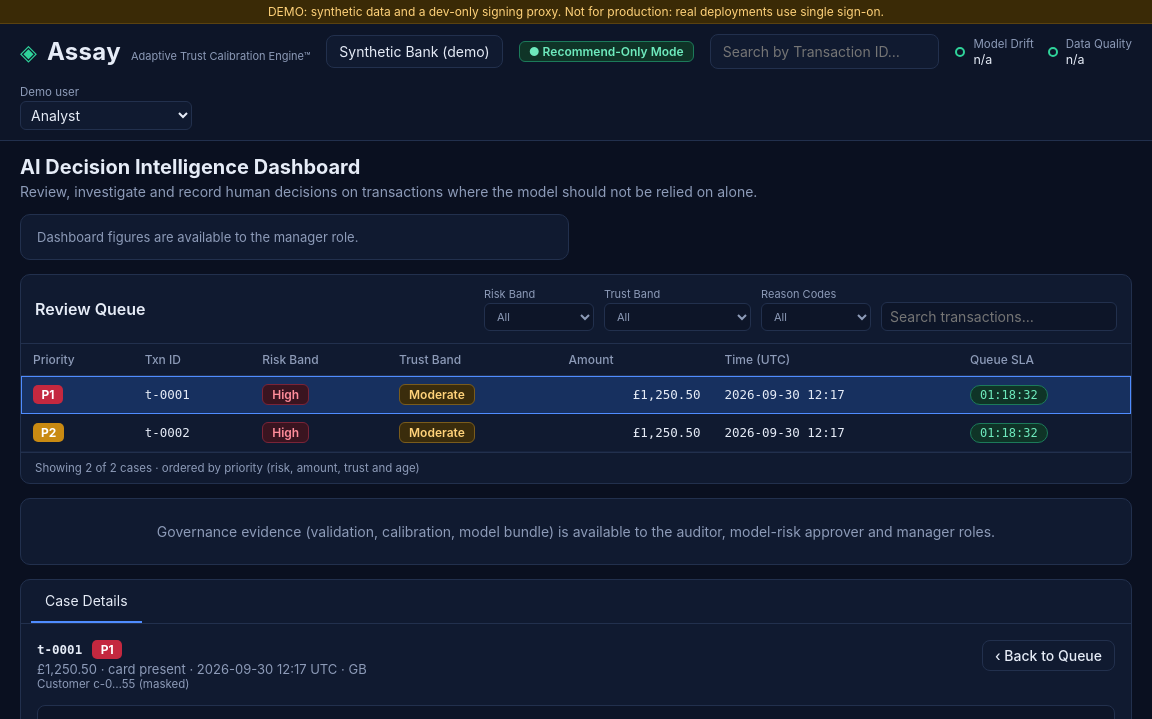
Scenario: App › does not open the previous user's case for a role that may not read cases
Expected: the element with test id "case-details" shows "t-0001", [37,642,82,657]
Select "Tenant Administrator" in the dropdown labelled "Demo user". click: (106, 116)
box: [20,101,192,130]
(page scrolled)
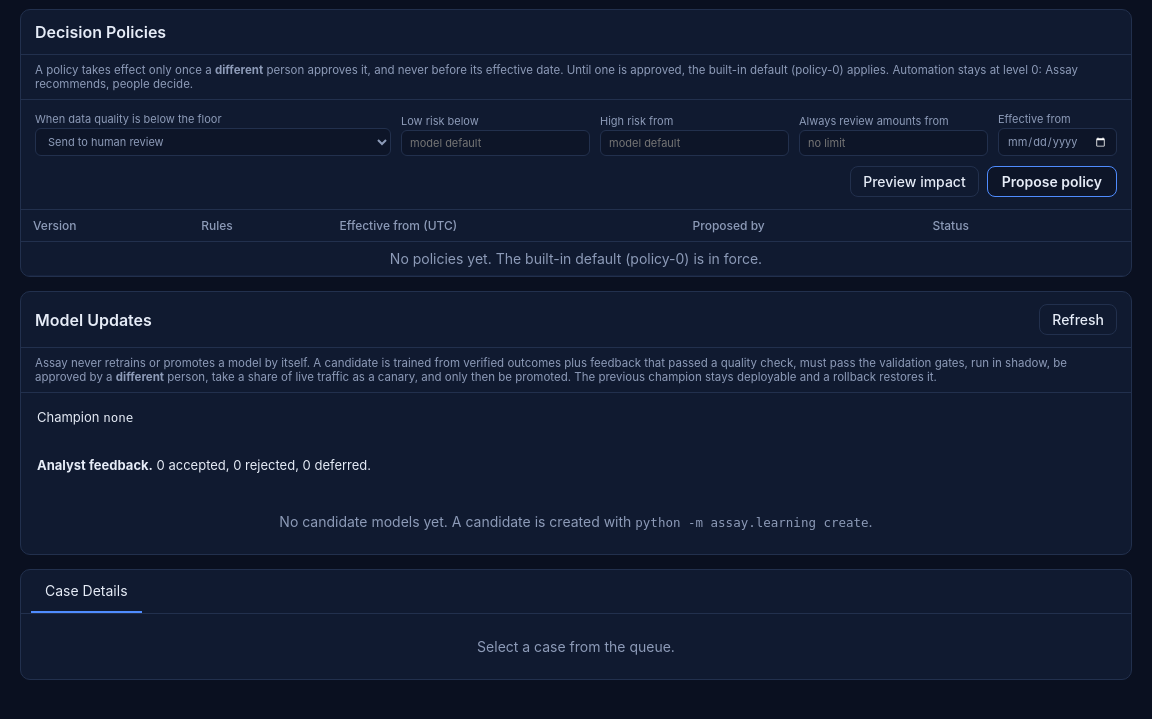
Expected: the text "Select a case from the queue." is shown, [477,638,675,655]
